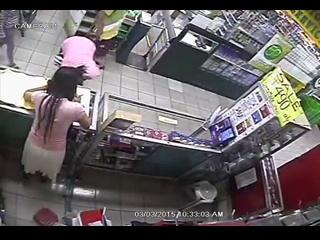Normal: (21, 66, 92, 188), (53, 31, 102, 82), (0, 10, 24, 69)
